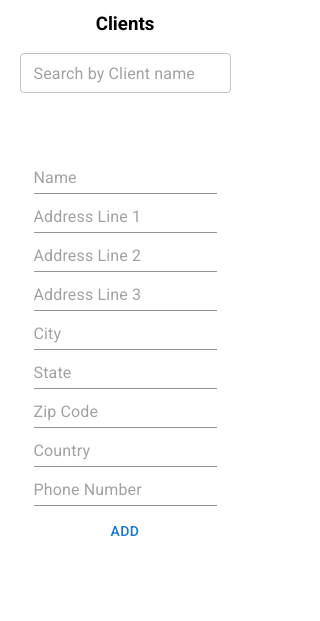
Test: Clients Component › fetches and displays clients
Type "J Doe" into the field with placeholder "Search by Client name".
click(125, 73); type("J Doe")  # box 20,53 -> 230,93
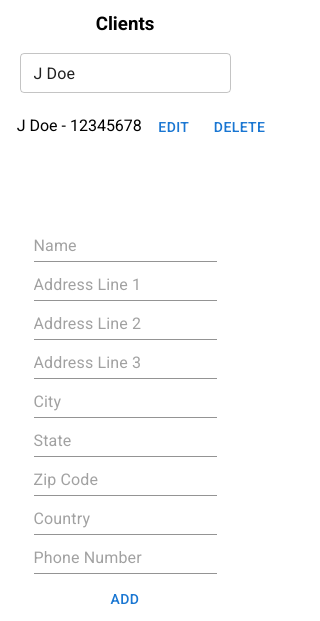
Expected: the list item "J Doe - 12345678" is shown, 17,109 -> 273,146
